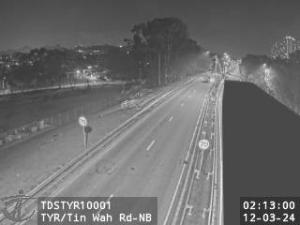vehicle: (203, 76, 209, 82)
